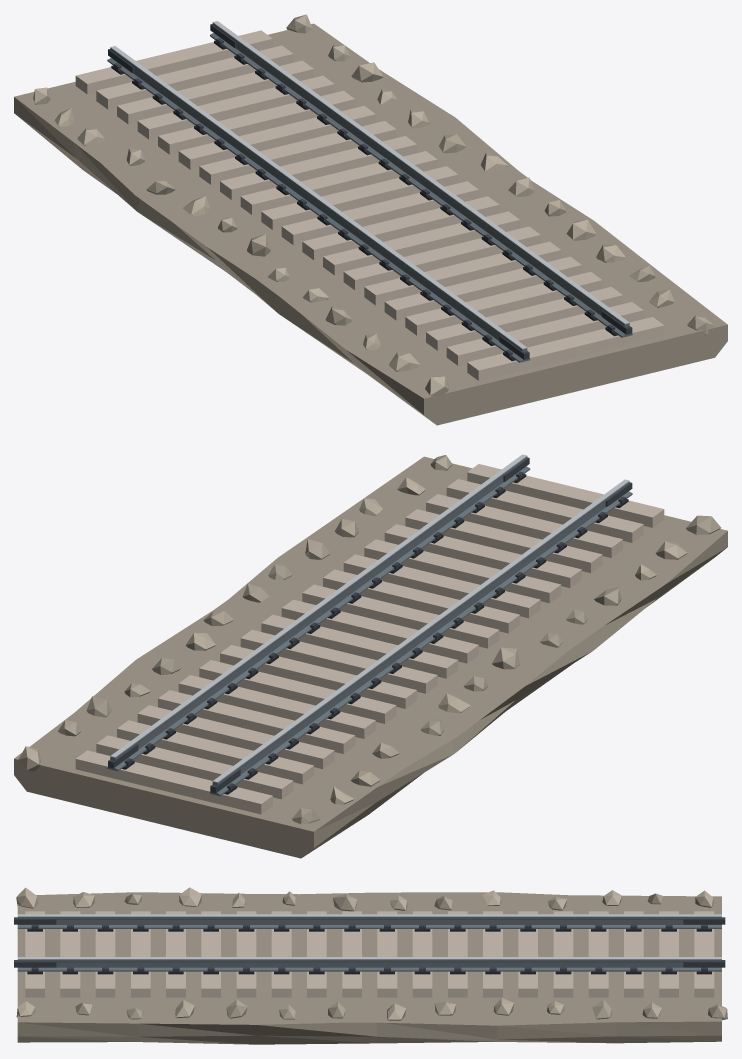
Rendered from RAIL_06.obj.
The picture shows the model from 3 angles, top to bottom: view 1: azimuth 30°, elevation 25°; view 2: azimuth 150°, elevation 25°; view 3: azimuth 270°, elevation 25°; orthographic projection. The views are drawn at different scales.
Visible parts, largest first — view 1: sleepers, ballast, rails, ballast_stones, rail_heads, fasteners, sleeper_pads, fishplates; view 2: sleepers, ballast, rails, ballast_stones, rail_heads, fasteners, sleeper_pads, fishplates; view 3: ballast, sleepers, rails, ballast_stones, rail_heads, sleeper_pads, fasteners, fishplates.
Boxes of the visible parts, x1,y1,x2,y2 form: sleepers: (75, 30, 664, 380); ballast: (14, 23, 727, 425); rails: (107, 23, 632, 362); ballast_stones: (33, 14, 713, 397); rail_heads: (110, 21, 629, 349); fasteners: (114, 38, 615, 357); sleeper_pads: (111, 40, 617, 361); fishplates: (108, 24, 632, 359); sleepers: (75, 464, 664, 814); ballast: (14, 456, 727, 858); rails: (107, 456, 632, 796); ballast_stones: (18, 455, 721, 824); rail_heads: (110, 454, 629, 782); fasteners: (124, 471, 626, 790); sleeper_pads: (122, 474, 628, 794); fishplates: (108, 457, 632, 793); ballast: (17, 892, 721, 1044); sleepers: (25, 911, 714, 997); rails: (17, 917, 721, 971); ballast_stones: (16, 887, 727, 1020); rail_heads: (17, 914, 721, 959); sleeper_pads: (27, 929, 711, 974); fasteners: (31, 925, 707, 972); fishplates: (14, 917, 725, 967).
Bounding box in the file's own units: 4.48 × 0.75 × 10.14.
